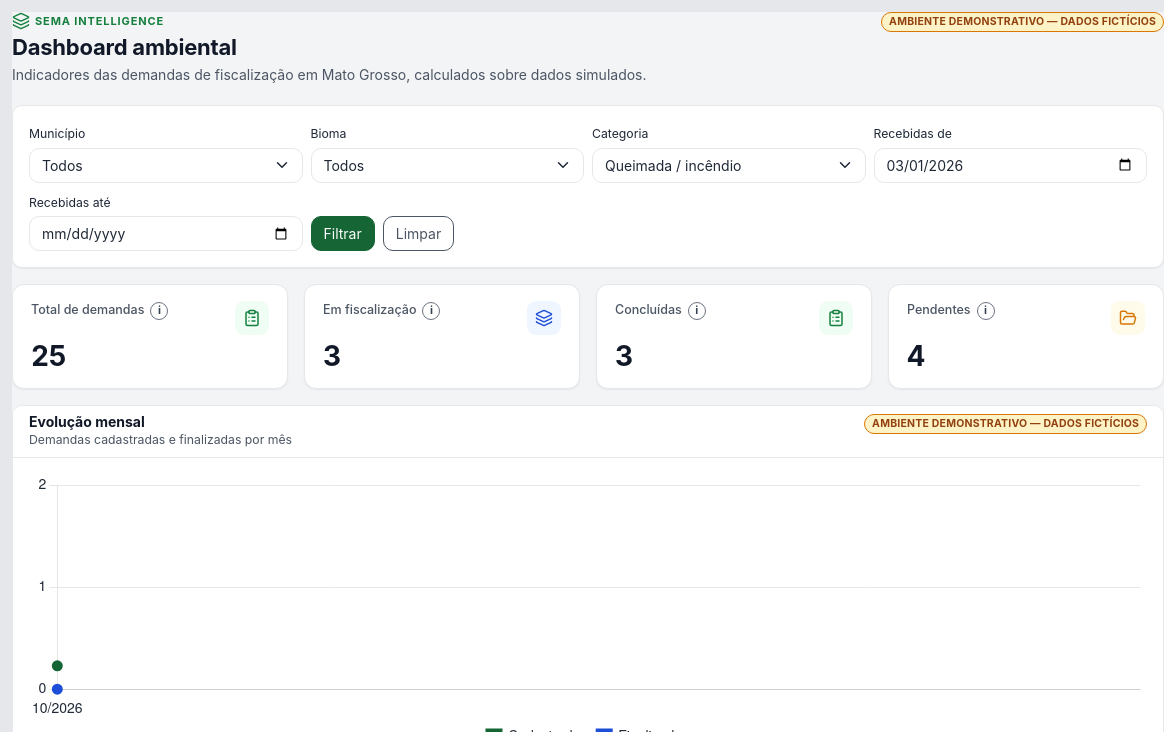
Test: IntelligenceDashboardPage › lê os filtros da URL, envia à API e permite limpar
Expected: the date field labelled "Recebidas de" holds "2026-03-01", [874,148,1147,183]
Click the button "Limpar" at (418, 234), box [383,216,454,251]
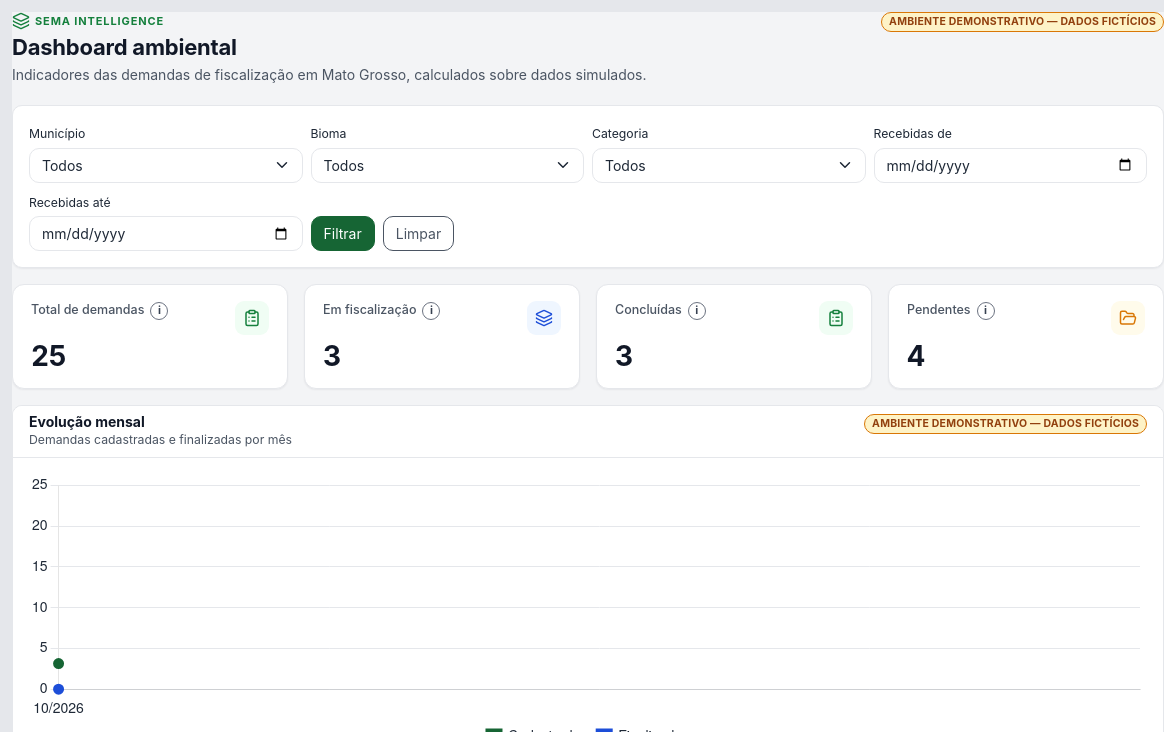
Expected: the date field labelled "Recebidas de" is empty, [874,148,1147,183]
